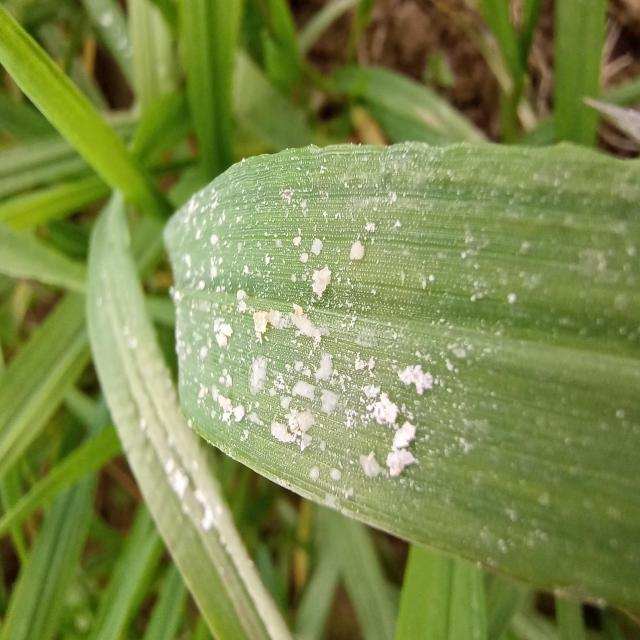Powdery Mildew: (103, 176, 495, 526)
